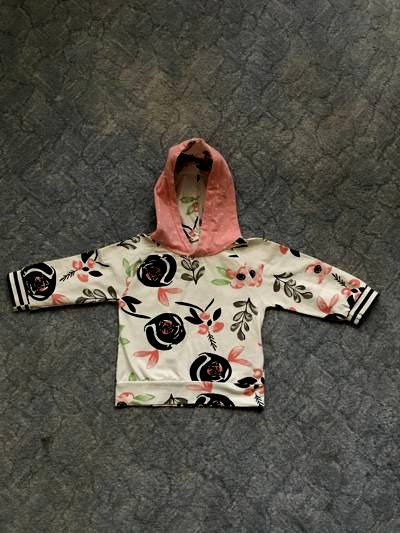Hoodie: (18, 122, 383, 422)
